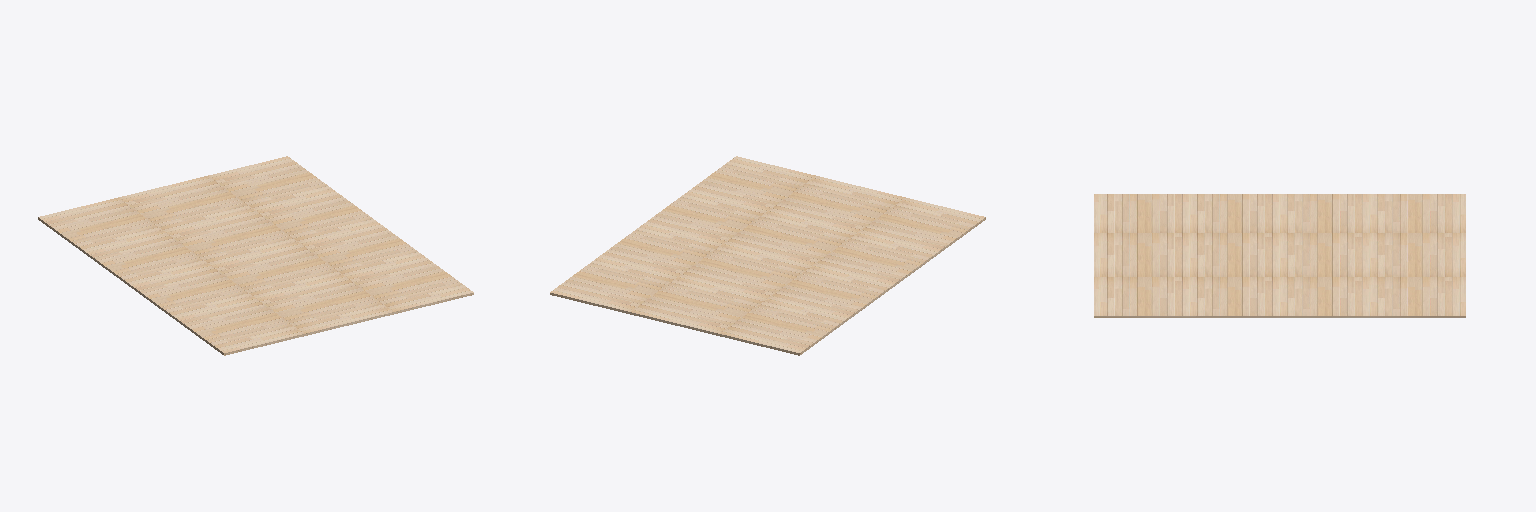
3 views of the same model, side by side, from view 1: azimuth 30°, elevation 25°; view 2: azimuth 150°, elevation 25°; view 3: azimuth 270°, elevation 25° (orthographic).
Parts seen in each view (by area): view 1: pisoSPA; view 2: pisoSPA; view 3: pisoSPA.
Boxes of the visible parts, x1,y1,x2,y2 form: pisoSPA: [38, 156, 473, 355]; pisoSPA: [550, 156, 985, 355]; pisoSPA: [1094, 194, 1465, 317].
Bounding box in the file's own units: 5.46 × 0.0515 × 7.04.
1 materials, 1 textured.